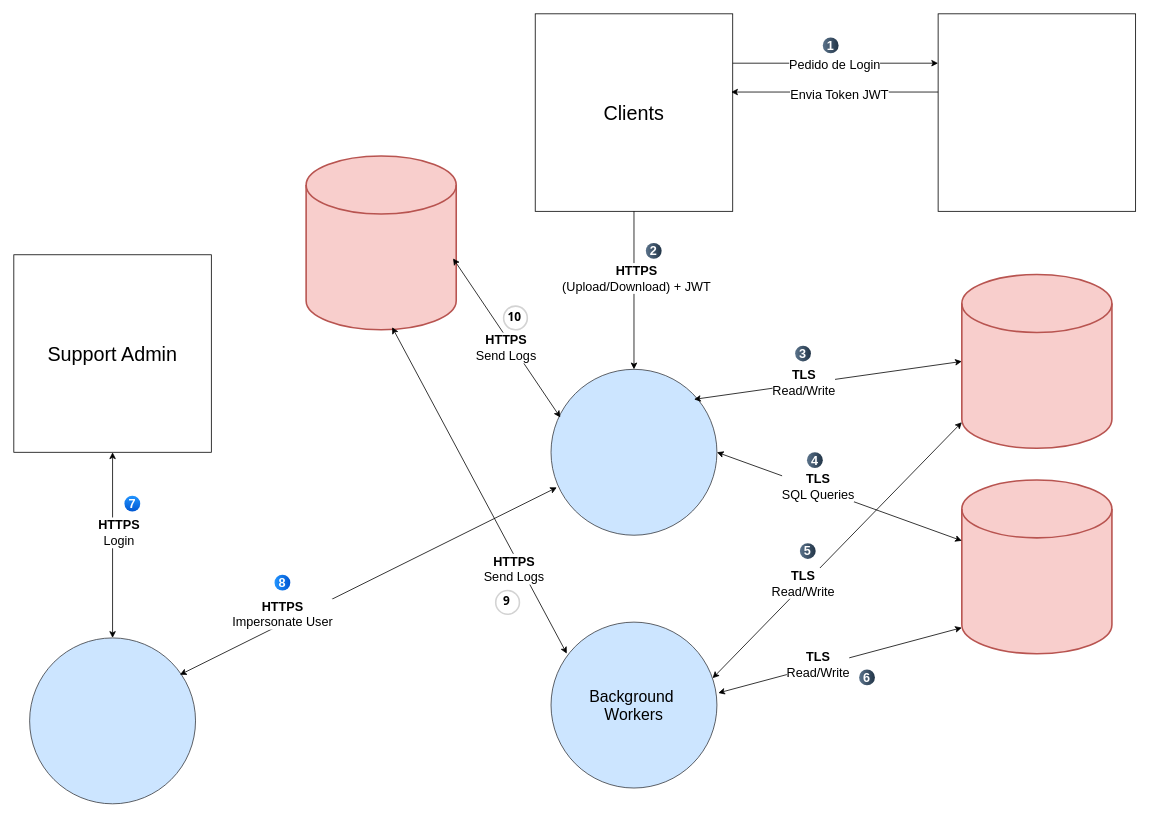
Some shapes in this 1149 by 818 pixel diagram are drawn without their labels. The centre of each missing label's shape, as x and y in pixels:
Admin API: [112,720]
Centralized Logs DB: [381,242]
External IdP (OIDC): [1036,112]
MariaDB (Metadados): [1036,566]
REST API: [633,452]
S3 Bucket (Ficheiros): [1036,361]
